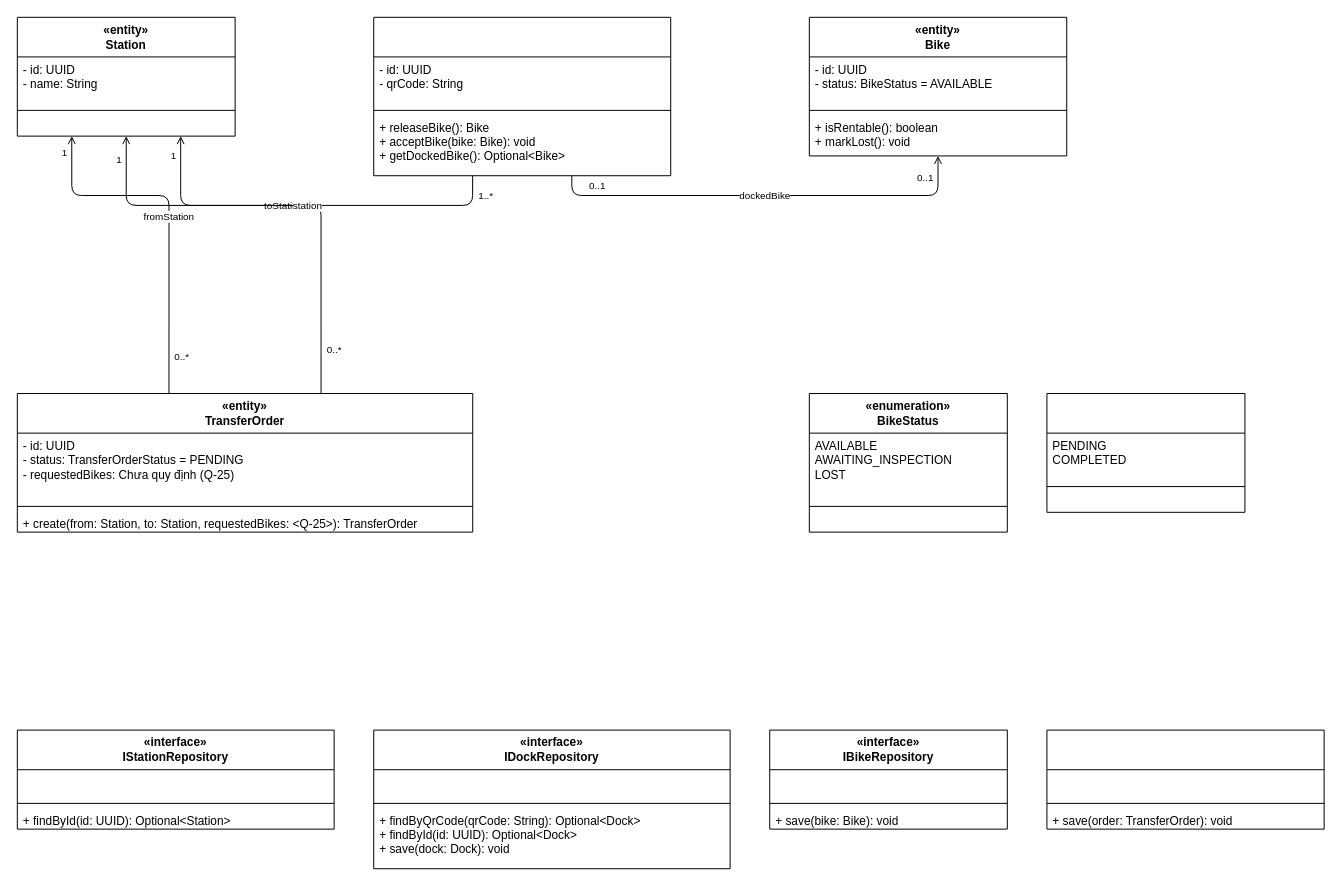
Image size: 1341x889. Some labels were removed from this diagram. The shapes that lost their labels are listed below. From the top down, each one's box as (x1, y1, x2, y2) in pixels, then its label:
(373, 16, 671, 176): «entity» Dock
(1046, 393, 1245, 512): «enumeration» TransferOrderStatus
(1046, 729, 1324, 829): «interface» ITransferOrderRepository
